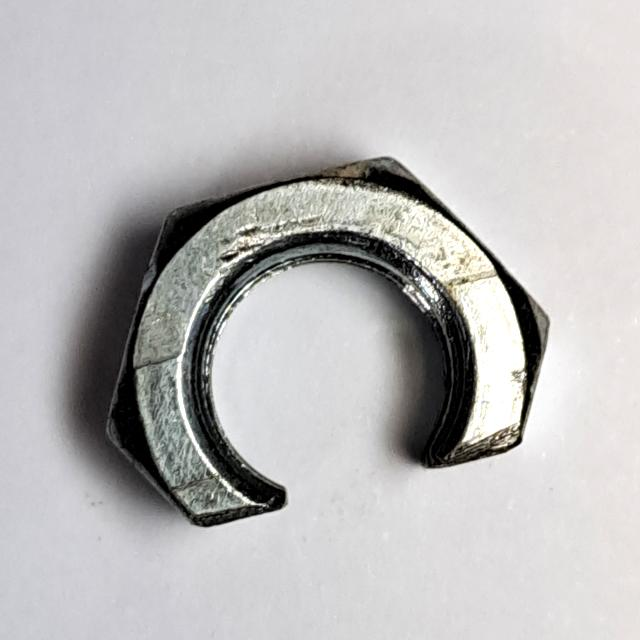Fracture: (89, 145, 566, 551)
